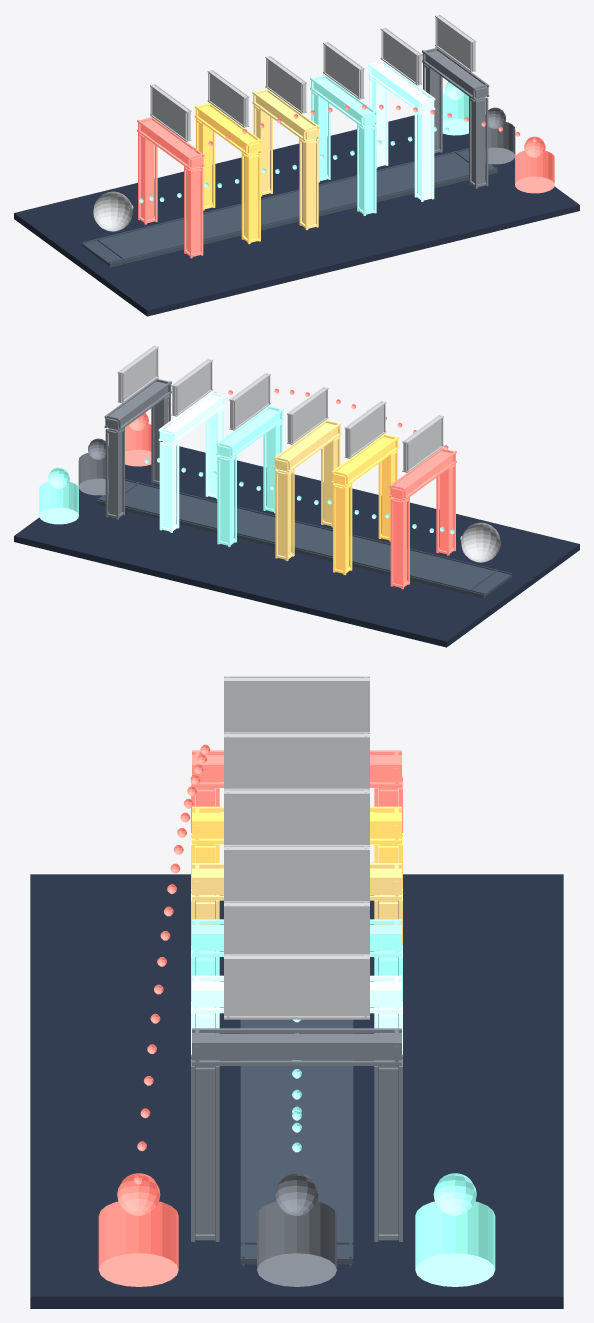
Rendered from aws-iam-policy-eval.glb.
The picture shows the model from 3 angles, top to bottom: view 1: azimuth 30°, elevation 25°; view 2: azimuth 150°, elevation 25°; view 3: azimuth 270°, elevation 25°; orthographic projection. The views are drawn at different scales.
Visible parts, largest first — view 1: iam-floor, iam-request-lane, gate-permission-boundary-post-r, gate-resource-policy-post-r, gate-identity-policy-post-r, gate-scp-post-r, gate-explicit-deny-post-r, gate-session-policy-post-r, gate-explicit-deny-post-l, gate-session-policy-lintel, gate-permission-boundary-lintel, gate-explicit-deny-lintel (+19 smaller); view 2: iam-floor, iam-request-lane, gate-permission-boundary-post-l, gate-resource-policy-post-l, gate-identity-policy-post-l, gate-session-policy-post-l, gate-scp-post-l, gate-explicit-deny-post-l, gate-explicit-deny-post-r, gate-scp-lintel, gate-permission-boundary-lintel, gate-session-policy-lintel (+18 smaller); view 3: iam-floor, iam-request-lane, gate-session-policy-policy, gate-explicit-deny-policy, gate-scp-policy, gate-resource-policy-policy, gate-identity-policy-policy, gate-session-policy-lintel, gate-permission-boundary-policy, decision-allow, decision-explicit-deny, decision-implicit-deny (+11 smaller).
Boxes of the visible parts, <box> form: iam-floor: <box>14,115,579,316</box>; iam-request-lane: <box>82,148,497,267</box>; gate-permission-boundary-post-r: <box>414,110,434,201</box>; gate-resource-policy-post-r: <box>299,138,318,230</box>; gate-identity-policy-post-r: <box>357,124,376,215</box>; gate-scp-post-r: <box>241,152,260,243</box>; gate-explicit-deny-post-r: <box>184,166,203,258</box>; gate-session-policy-post-r: <box>469,97,488,188</box>; gate-explicit-deny-post-l: <box>138,132,157,224</box>; gate-session-policy-lintel: <box>422,47,489,100</box>; gate-permission-boundary-lintel: <box>368,60,435,113</box>; gate-explicit-deny-lintel: <box>137,116,204,169</box>; iam-floor: <box>14,446,579,647</box>; iam-request-lane: <box>96,479,511,598</box>; gate-permission-boundary-post-l: <box>159,441,179,532</box>; gate-resource-policy-post-l: <box>275,469,294,561</box>; gate-identity-policy-post-l: <box>217,455,236,546</box>; gate-session-policy-post-l: <box>105,428,124,519</box>; gate-scp-post-l: <box>333,483,352,574</box>; gate-explicit-deny-post-l: <box>390,497,409,589</box>; gate-explicit-deny-post-r: <box>436,463,455,555</box>; gate-scp-lintel: <box>331,433,399,486</box>; gate-permission-boundary-lintel: <box>158,391,225,444</box>; gate-session-policy-lintel: <box>104,378,171,431</box>; iam-floor: <box>30,874,563,1308</box>; iam-request-lane: <box>240,1019,353,1266</box>; gate-session-policy-policy: <box>224,954,369,1019</box>; gate-explicit-deny-policy: <box>224,676,369,732</box>; gate-scp-policy: <box>224,732,369,788</box>; gate-resource-policy-policy: <box>224,788,369,844</box>; gate-identity-policy-policy: <box>224,845,369,901</box>; gate-session-policy-lintel: <box>192,1028,401,1065</box>; gate-permission-boundary-policy: <box>224,901,369,954</box>; decision-allow: <box>415,1201,495,1286</box>; decision-explicit-deny: <box>98,1201,178,1286</box>; decision-implicit-deny: <box>257,1201,336,1286</box>.
Size of what is drawn, in the model's own units: 6 by 1.96 by 3.2.
